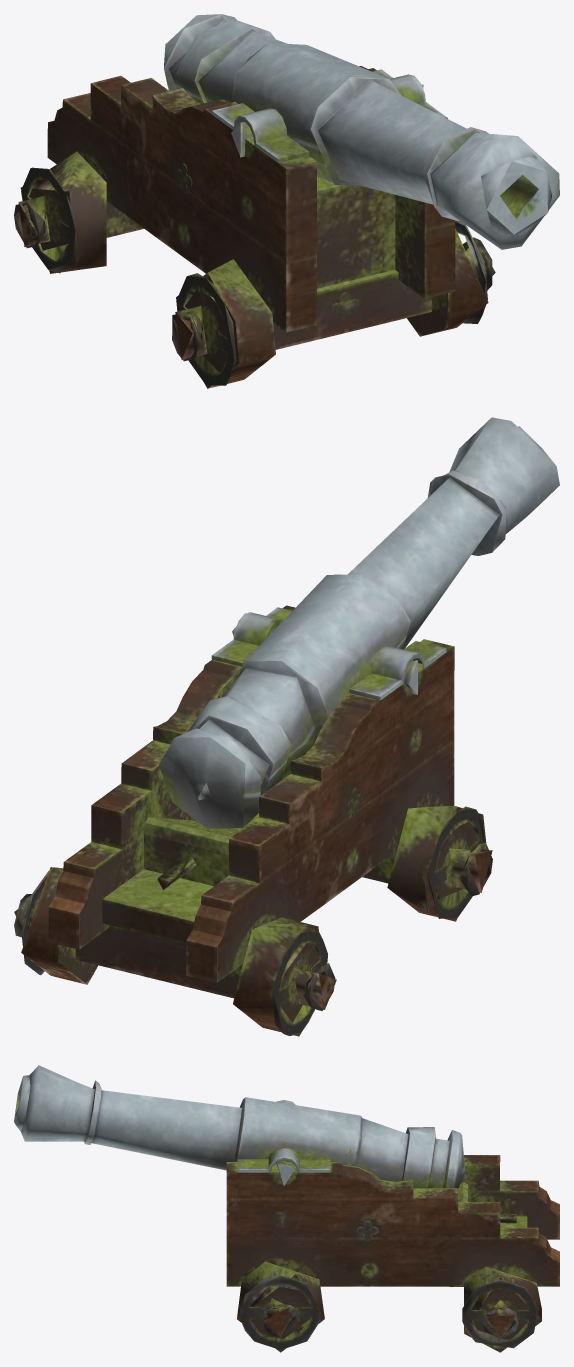
File: bw-cannon.lod0.glb
3 renders of one model, top to bottom at view 1: azimuth 30°, elevation 25°; view 2: azimuth 150°, elevation 25°; view 3: azimuth 270°, elevation 25°, orthographic. The views are drawn at different scales.
Visible parts, largest first — view 1: cannon_Material #39_0; view 2: cannon_Material #39_0; view 3: cannon_Material #39_0.
Part boxes in pixels (x1,y1,x2,y2): cannon_Material #39_0: (14, 14, 559, 388); cannon_Material #39_0: (14, 417, 559, 1036); cannon_Material #39_0: (14, 1065, 559, 1352).
Bounding box in the file's own units: 1.07 × 1.18 × 2.4.
Materials: 1 (1 with a texture image).
